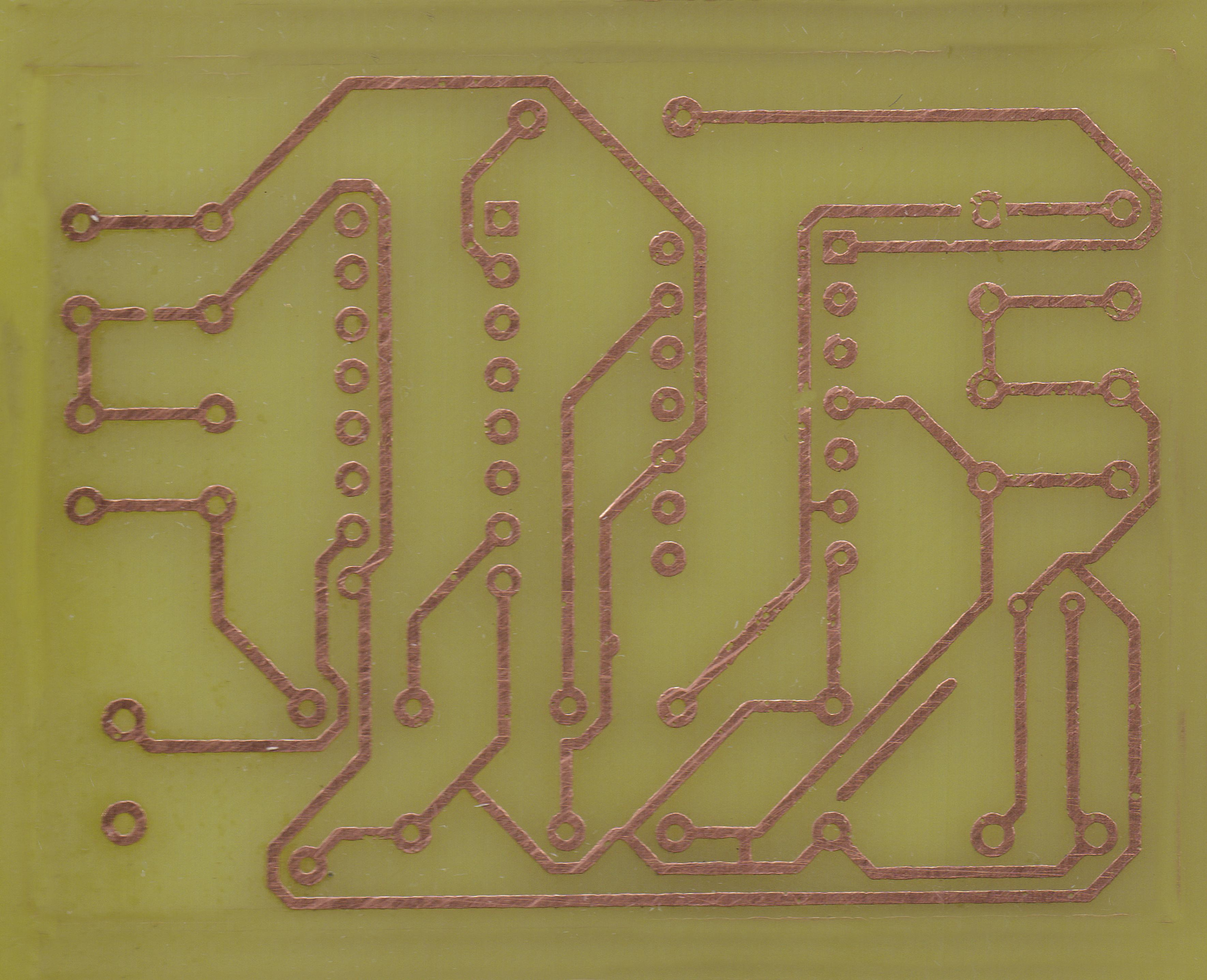missing_hole: (1100, 367, 1142, 409), (1100, 459, 1141, 500), (968, 189, 1008, 231)
mouse_bite: (356, 820, 390, 847), (865, 391, 906, 412), (1128, 159, 1138, 171)
open_circuit: (789, 372, 819, 426), (136, 300, 170, 329), (958, 193, 973, 222)
short: (733, 822, 759, 880)
spur: (598, 626, 626, 668)
spurious_copper: (830, 677, 965, 801)
